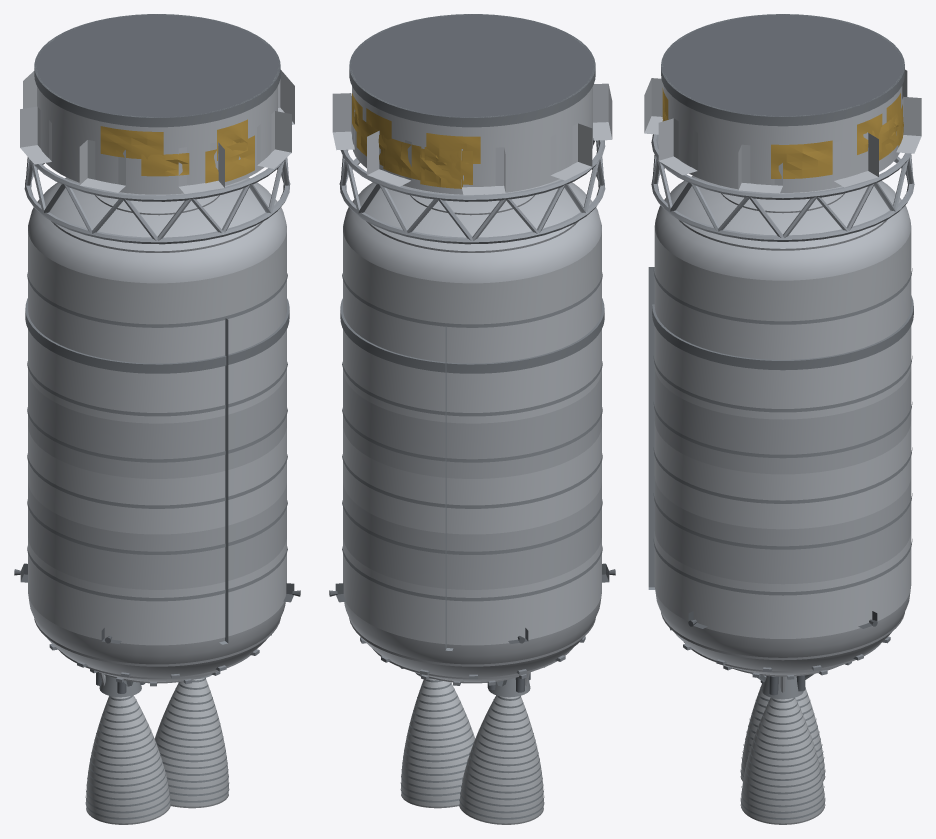
File: centaur-d.glb
3 views of the same model, side by side, from view 1: azimuth 30°, elevation 25°; view 2: azimuth 150°, elevation 25°; view 3: azimuth 270°, elevation 25° (orthographic).
Visible parts, largest first — view 1: body, foil; view 2: body, foil; view 3: body, foil.
Part boxes in pixels (x1,y1,x2,y2): body: (14,14,300,824); foil: (100,119,254,183); body: (329,14,615,824); foil: (352,93,480,188); body: (644,14,921,824); foil: (662,88,903,178).
Size of the model in its own units: 3.3 by 9.54 by 3.3.
